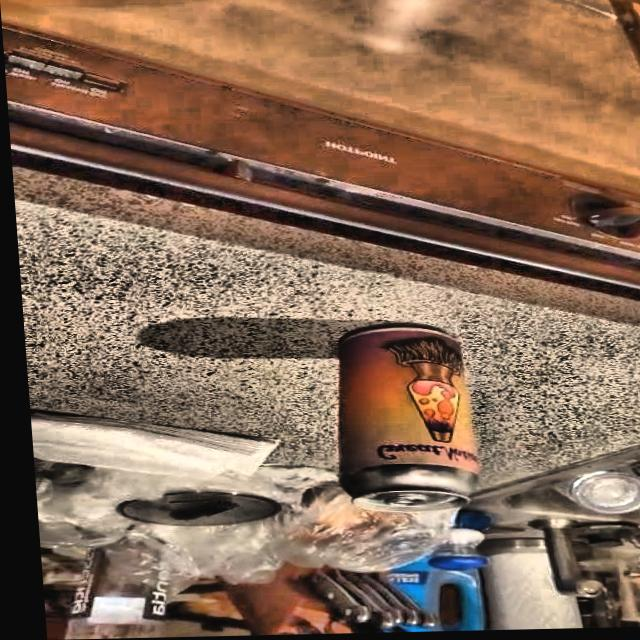can: (318, 317, 482, 517)
